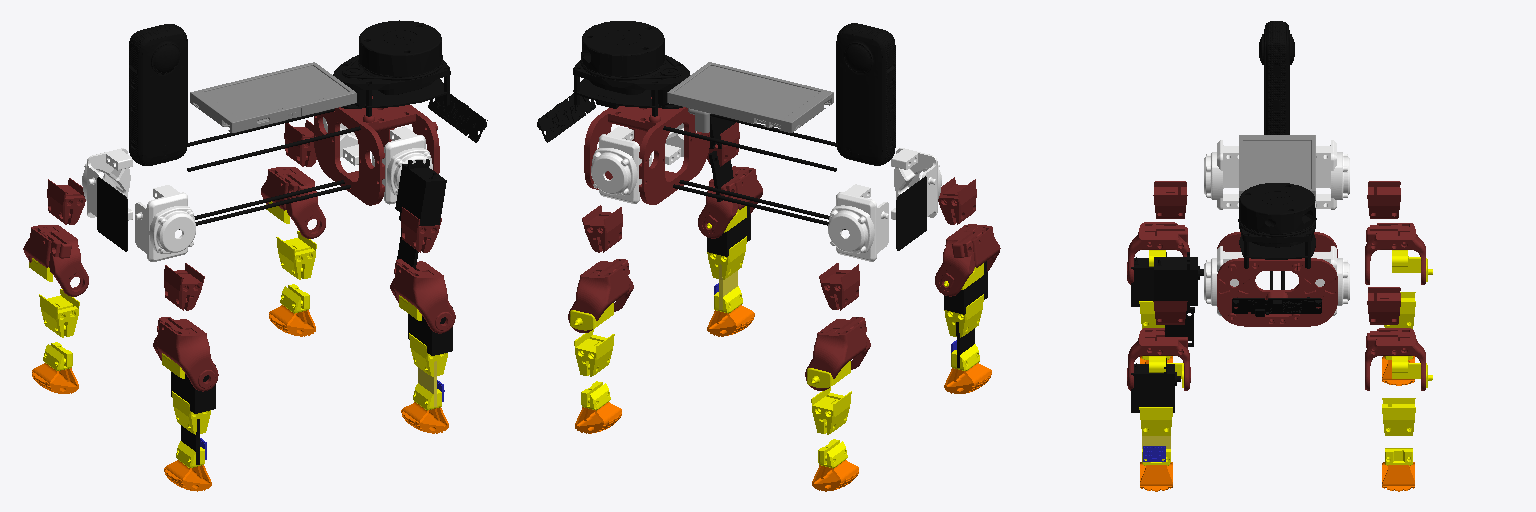
--- Facts derived from the render (not from the file) ---
Views: 3 orthographic renders of the robot side by side, from view 1: azimuth 30°, elevation 25°; view 2: azimuth 150°, elevation 25°; view 3: azimuth 270°, elevation 25°.
Model spot with 38 links and 37 joints (12 revolute, 25 fixed), rooted at base_link, posed every joint at zero.
Links seen in each view (by area): view 1: insta360, rpi_lidar, m5paper, front_bracket, back_right_upper_leg, back_left_upper_leg, front_right_upper_leg, back_right_hip, front_left_upper_leg, front_right_upper_servo, cfr_core, back_left_lower_leg (+14 smaller); view 2: insta360, rpi_lidar, m5paper, front_bracket, back_right_upper_leg, back_left_upper_leg, front_left_upper_leg, back_left_hip, front_left_hip, front_right_upper_leg, back_left_lower_leg, front_left_lower_leg (+14 smaller); view 3: front_bracket, rpi_lidar, m5paper, insta360, front_left_upper_leg, back_left_upper_leg, back_right_upper_leg, front_right_upper_leg, front_left_lower_leg, front_right_upper_servo, back_right_hip, back_left_hip (+11 smaller).
Link boxes in pixels (box(x1,y1,x2,y2)): insta360: box(129, 24, 187, 165); rpi_lidar: box(333, 20, 450, 116); m5paper: box(190, 62, 356, 132); front_bracket: box(314, 96, 439, 205); back_right_upper_leg: box(153, 263, 218, 391); back_left_upper_leg: box(23, 178, 88, 296); front_right_upper_leg: box(390, 207, 455, 333); back_right_hip: box(135, 185, 195, 261); front_left_upper_leg: box(261, 120, 325, 238); front_right_upper_servo: box(395, 159, 446, 225); cfr_core: box(179, 109, 360, 229); back_left_lower_leg: box(29, 258, 79, 370); insta360: box(836, 23, 895, 165); rpi_lidar: box(573, 21, 689, 116); m5paper: box(667, 62, 833, 132); front_bracket: box(584, 97, 709, 204); back_right_upper_leg: box(935, 177, 1000, 296); back_left_upper_leg: box(805, 263, 870, 390); front_left_upper_leg: box(568, 205, 633, 332); back_left_hip: box(828, 184, 888, 261); front_left_hip: box(591, 126, 651, 203); front_right_upper_leg: box(698, 122, 762, 238); back_left_lower_leg: box(807, 361, 851, 468); front_left_lower_leg: box(570, 303, 614, 410); front_bracket: box(1217, 232, 1337, 326); rpi_lidar: box(1238, 183, 1316, 268); m5paper: box(1239, 135, 1315, 200); insta360: box(1259, 21, 1294, 134); front_left_upper_leg: box(1365, 287, 1425, 390); back_left_upper_leg: box(1365, 181, 1425, 284); back_right_upper_leg: box(1127, 181, 1189, 284); front_right_upper_leg: box(1127, 301, 1190, 390); front_left_lower_leg: box(1382, 356, 1432, 465); front_right_upper_servo: box(1154, 252, 1203, 311); back_right_hip: box(1204, 140, 1238, 209); back_left_hip: box(1315, 140, 1349, 209).
Size in the robot's own frame: 0.352 by 0.2785 by 0.3703 metres.
31 mesh visuals loaded from 27 distinct referenced files (20 binary STL); not drawn: 7 (reference not matched to a file when rendering).

URDF robot description (spot):
<?xml version="1.0" encoding="utf-8"?>
<!-- =================================================================================== -->
<!-- |    This document was autogenerated by xacro from spot.urdf.xacro                | -->
<!-- |    EDITING THIS FILE BY HAND IS NOT RECOMMENDED                                 | -->
<!-- =================================================================================== -->
<robot name="spot" xmlns:xacro="http://www.ros.org/wiki/xacro">
  <material name="maroon">
    <color rgba="0.5 0.2 0.2 1"/>
  </material>
  <material name="lblue">
    <color rgba="0.1 0.1 0.8 0.9"/>
  </material>
  <material name="orange">
    <color rgba="1.0 0.5 0.0 1"/>
  </material>
  <material name="black">
    <color rgba="0.1 0.1 0.1 1"/>
  </material>
  <material name="grey">
    <color rgba="0.6 0.6 0.6 1"/>
  </material>
  <material name="white">
    <color rgba="1.0 1.0 1.0 1"/>
  </material>
  <material name="yellow">
    <color rgba="1.0 1.0 0.0 1"/>
  </material>
  <material name="cgray">
    <color rgba="0.6 0.6 0.6 0.5"/>
  </material>
  <material name="blue">
    <color rgba="0.2 0.2 0.8 1"/>
  </material>
  <material name="green">
    <color rgba="0.2 0.8 0.2 1"/>
  </material>
  <!-- Left Leg: prefix is front or rear -->
  <!--   <xacro:macro name="LeftLeg" params="prefix reflect">
    <link name="${prefix}_Left_Leg">
        <visual>
            <geometry>
                <box size="${leglen} 0.1 0.2"/>
            </geometry>
            <origin xyz="0 0 -${leglen/2}" rpy="0 ${pi/2} 0"/>
            <material name="white"/>
        </visual>
        <collision>
            <geometry>
                <box size="${leglen} 0.1 0.2"/>
            </geometry>
            <origin xyz="0 0 -${leglen/2}" rpy="0 ${pi/2} 0"/>
        </collision>
        <xacro:default_inertial mass="10"/>
    </link>

    <joint name="base_to_${prefix}_leg" type="fixed">
        <parent link="base_link"/>
        <child link="${prefix}_leg"/>
        <origin xyz="0 ${reflect*(width+.02)} 0.25" />
    </joint>
</xacro:macro> -->
  <!-- Robot description -->
  <!-- STATIC Links -->
  <link name="base_link">
    <visual>
      <origin rpy="0 0 1.57079632679" xyz="-0.16 0.035 -0.045"/>
      <geometry>
        <mesh filename="package://mini_ros/stl/OpenQuadruped/MAINBODY.stl" scale="1 1 1"/>
      </geometry>
      <material name="maroon"/>
    </visual>
    <collision>
      <origin rpy="0 0 1.57079632679" xyz="0 0 0"/>
      <geometry>
        <box size="0.114 0.2 0.1"/>
      </geometry>
    </collision>
    <inertial>
      <mass value="0.6"/>
      <origin rpy="0 0 0" xyz="0 0 0"/>
      <!-- Inertial Axes -->
      <inertia ixx="0.0025" ixy="0" ixz="0" iyx="0" iyy="0.0011498" iyz="0" izx="0" izy="0" izz="0.0026498"/>
    </inertial>
  </link>
  <!-- m to mm -->
  <link name="battery">
    <visual>
      <origin rpy="0 0 1.57079632679" xyz="-0.15 0.035 -0.022"/>
      <geometry>
        <mesh filename="package://mini_ros/stl/OpenQuadruped/Battery.stl" scale="1 1 1"/>
      </geometry>
      <material name="lblue"/>
    </visual>
    <collision>
      <origin rpy="0 0 1.57079632679" xyz="0 0 0"/>
      <geometry>
        <box size="0.048 0.145 0.026"/>
      </geometry>
    </collision>
    <inertial>
      <mass value="0.4"/>
      <origin rpy="0 0 0" xyz="0 0 0"/>
      <!-- Inertial Axes -->
      <inertia ixx="0.000723366666667" ixy="0" ixz="0" iyx="0" iyy="9.93333333333e-05" iyz="0" izx="0" izy="0" izz="0.000777633333333"/>
    </inertial>
  </link>

  
  <!-- m to mm -->
  <link name="cfr_core">
    <visual>
      <origin rpy="0 0 1.57079632679" xyz="-0.15 0.035 -0.022"/>
      <geometry>
        <mesh filename="package://mini_ros/stl/OpenQuadruped/cfr_core.stl" scale="1 1 1"/>
      </geometry>
      <material name="black"/>
    </visual>
    <collision>
      <origin rpy="0 0 1.57079632679" xyz="0 0 0"/>
      <geometry>
        <box size="0.048 0.145 0.026"/>
      </geometry>
    </collision>
    <inertial>
      <mass value="0.1"/>
      <origin rpy="0 0 0" xyz="0 0 0"/>
      <!-- Inertial Axes -->
      <inertia ixx="0.000723366666667" ixy="0" ixz="0" iyx="0" iyy="9.93333333333e-05" iyz="0" izx="0" izy="0" izz="0.000777633333333"/>
    </inertial>
  </link>
<!-- m to mm -->
  <link name="m5paper">
    <visual>
      <origin rpy="0 0 1.57079632679" xyz="-0.15 0.035 -0.022"/>
      <geometry>
        <mesh filename="package://mini_ros/stl/OpenQuadruped/m5paper.stl" scale="1 1 1"/>
      </geometry>
      <material name="grey"/>
    </visual>
    <collision>
      <origin rpy="0 0 1.57079632679" xyz="0 0 0"/>
      <geometry>
        <box size="0.048 0.145 0.026"/>
      </geometry>
    </collision>
    <inertial>
      <mass value="0.1"/>
      <origin rpy="0 0 0" xyz="0 0 0"/>
      <!-- Inertial Axes -->
      <inertia ixx="0.000723366666667" ixy="0" ixz="0" iyx="0" iyy="9.93333333333e-05" iyz="0" izx="0" izy="0" izz="0.000777633333333"/>
    </inertial>
  </link>
  <!-- m to mm -->
  <link name="rpi_lidar">
    <visual>
      <origin rpy="0 0 1.57079632679" xyz="-0.15 0.035 -0.022"/>
      <geometry>
        <mesh filename="package://mini_ros/stl/OpenQuadruped/lidar.stl" scale="1 1 1"/>
      </geometry>
      <material name="black"/>
    </visual>
    <collision>
      <origin rpy="0 0 1.57079632679" xyz="0 0 0"/>
      <geometry>
        <box size="0.048 0.145 0.026"/>
      </geometry>
    </collision>
    <inertial>
      <mass value="0.1"/>
      <origin rpy="0 0 0" xyz="0 0 0"/>
      <!-- Inertial Axes -->
      <inertia ixx="0.000723366666667" ixy="0" ixz="0" iyx="0" iyy="9.93333333333e-05" iyz="0" izx="0" izy="0" izz="0.000777633333333"/>
    </inertial>
  </link>

    <!-- m to mm -->
  <link name="rpi_5">
    <visual>
      <origin rpy="0 0 1.57079632679" xyz="-0.15 0.035 -0.022"/>
      <geometry>
        <mesh filename="package://mini_ros/stl/OpenQuadruped/RPI5.stl" scale="1 1 1"/>
      </geometry>
      <material name="green"/>
    </visual>
    <collision>
      <origin rpy="0 0 1.57079632679" xyz="0 0 0"/>
      <geometry>
        <box size="0.048 0.145 0.026"/>
      </geometry>
    </collision>
    <inertial>
      <mass value="0.1"/>
      <origin rpy="0 0 0" xyz="0 0 0"/>
      <!-- Inertial Axes -->
      <inertia ixx="0.000723366666667" ixy="0" ixz="0" iyx="0" iyy="9.93333333333e-05" iyz="0" izx="0" izy="0" izz="0.000777633333333"/>
    </inertial>
  </link>

    <!-- m to mm -->
  <link name="oak_d_lite">
    <visual>
      <origin rpy="0 0 1.57079632679" xyz="-0.15 0.035 -0.022"/>
      <geometry>
        <mesh filename="package://mini_ros/stl/OpenQuadruped/OAKD_LITE.stl" scale="1 1 1"/>
      </geometry>
      <material name="black"/>
    </visual>
    <collision>
      <origin rpy="0 0 1.57079632679" xyz="0 0 0"/>
      <geometry>
        <box size="0.048 0.145 0.026"/>
      </geometry>
    </collision>
    <inertial>
      <mass value="0.1"/>
      <origin rpy="0 0 0" xyz="0 0 0"/>
      <!-- Inertial Axes -->
      <inertia ixx="0.000723366666667" ixy="0" ixz="0" iyx="0" iyy="9.93333333333e-05" iyz="0" izx="0" izy="0" izz="0.000777633333333"/>
    </inertial>
  </link>

      <!-- m to mm -->
  <link name="insta360">
    <visual>
      <origin rpy="0 0 1.57079632679" xyz="-0.15 0.035 -0.022"/>
      <geometry>
        <mesh filename="package://mini_ros/stl/OpenQuadruped/INSTA360.stl" scale="1 1 1"/>
      </geometry>
      <material name="black"/>
    </visual>
    <collision>
      <origin rpy="0 0 1.57079632679" xyz="0 0 0"/>
      <geometry>
        <box size="0.048 0.145 0.026"/>
      </geometry>
    </collision>
    <inertial>
      <mass value="0.1"/>
      <origin rpy="0 0 0" xyz="0 0 0"/>
      <!-- Inertial Axes -->
      <inertia ixx="0.000723366666667" ixy="0" ixz="0" iyx="0" iyy="9.93333333333e-05" iyz="0" izx="0" izy="0" izz="0.000777633333333"/>
    </inertial>
  </link>

  <!-- m to mm -->
  <link name="chassis_left">
    <visual>
      <origin rpy="0 1.57079632679 -1.57079632679" xyz="0.016 0.003 0"/>
      <geometry>
        <mesh filename="package://mini_ros/stl/OpenQuadruped/Chassis_Left_Side.stl" scale="1 1 1"/>
      </geometry>
      <material name="cgray"/>
    </visual>
    <collision>
      <origin rpy="0 1.57079632679 -1.57079632679" xyz="0 0 0"/>
      <geometry>
        <box size="0.06 0.15 0.006"/>
      </geometry>
    </collision>
    <inertial>
      <mass value="0.01"/>
      <origin rpy="0 0 0" xyz="0 0 0"/>
      <!-- Inertial Axes -->
      <inertia ixx="1.878e-05" ixy="0" ixz="0" iyx="0" iyy="3.03e-06" iyz="0" izx="0" izy="0" izz="2.175e-05"/>
    </inertial>
  </link>
  <!-- m to mm -->
  <link name="chassis_right">
    <visual>
      <origin rpy="0 1.57079632679 1.57079632679" xyz="-0.016 -0.003 0"/>
      <geometry>
        <mesh filename="package://mini_ros/stl/OpenQuadruped/Chassis_Right_Side.stl" scale="1 1 1"/>
      </geometry>
      <material name="cgray"/>
    </visual>
    <collision>
      <origin rpy="0 1.57079632679 1.57079632679" xyz="0 0 0"/>
      <geometry>
        <box size="0.06 0.15 0.006"/>
      </geometry>
    </collision>
    <inertial>
      <mass value="0.01"/>
      <origin rpy="0 0 0" xyz="0 0 0"/>
      <!-- Inertial Axes -->
      <inertia ixx="1.878e-05" ixy="0" ixz="0" iyx="0" iyy="3.03e-06" iyz="0" izx="0" izy="0" izz="2.175e-05"/>
    </inertial>
  </link>
  <!-- m to mm -->
  <link name="front">
    <visual>
      <origin rpy="0 0 1.57079632679" xyz="-0.16 0.035 -0.045"/>
      <geometry>
        <mesh filename="package://mini_ros/stl/OpenQuadruped/Front.stl" scale="1 1 1"/>
      </geometry>
      <material name="maroon"/>
    </visual>
    <collision>
      <origin rpy="0 0 1.57079632679" xyz="0.16 0 0.006"/>
      <geometry>
        <box size="0.114 0.045 0.085"/>
      </geometry>
    </collision>
    <inertial>
      <mass value="0.1"/>
      <origin rpy="0 0 0" xyz="0 0 0"/>
      <!-- Inertial Axes -->
      <inertia ixx="7.70833333333e-05" ixy="0" ixz="0" iyx="0" iyy="0.000168508333333" iyz="0" izx="0" izy="0" izz="0.000125175"/>
    </inertial>
  </link>
  <!-- m to mm -->
  <link name="back">
    <visual>
      <origin rpy="0 0 1.57079632679" xyz="-0.16 0.035 -0.045"/>
      <geometry>
        <mesh filename="package://mini_ros/stl/OpenQuadruped/m5fire_black.stl" scale="1 1 1"/>
      </geometry>
      <material name="black"/>
    </visual>
    <collision>
      <origin rpy="0 0 1.57079632679" xyz="-0.16 0 0.006"/>
      <geometry>
        <box size="0.114 0.075 0.085"/>
      </geometry>
    </collision>
    <inertial>
      <mass value="0.1"/>
      <origin rpy="0 0 0" xyz="0 0 0"/>
      <!-- Inertial Axes -->
      <inertia ixx="0.000107083333333" ixy="0" ixz="0" iyx="0" iyy="0.000168508333333" iyz="0" izx="0" izy="0" izz="0.000155175"/>
    </inertial>
  </link>
  <!-- m to mm -->
  <link name="front_bracket">
    <visual>
      <origin rpy="0 0 1.57079632679" xyz="-0.16 0.035 -0.045"/>
      <geometry>
        <mesh filename="package://mini_ros/stl/OpenQuadruped/Front_Bracket.stl" scale="1 1 1"/>
      </geometry>
      <material name="maroon"/>
    </visual>
    <collision>
      <origin rpy="0 0 1.57079632679" xyz="0.1 0 0"/>
      <geometry>
        <box size="0.025 0.075 0.085"/>
      </geometry>
    </collision>
    <inertial>
      <mass value="0.1"/>
      <origin rpy="0 0 0" xyz="0 0 0"/>
      <!-- Inertial Axes -->
      <inertia ixx="0.000107083333333" ixy="0" ixz="0" iyx="0" iyy="6.54166666667e-05" iyz="0" izx="0" izy="0" izz="5.20833333333e-05"/>
    </inertial>
  </link>
  <!-- m to mm -->
  <link name="back_bracket">
    <visual>
      <origin rpy="0 0 1.57079632679" xyz="-0.16 0.035 -0.045"/>
      <geometry>
        <mesh filename="package://mini_ros/stl/OpenQuadruped/Back_Bracket.stl" scale="1 1 1"/>
      </geometry>
      <material name="maroon"/>
    </visual>
    <collision>
      <origin rpy="0 0 1.57079632679" xyz="-0.1 0 0"/>
      <geometry>
        <box size="0.025 0.075 0.085"/>
      </geometry>
    </collision>
    <inertial>
      <mass value="0.1"/>
      <origin rpy="0 0 0" xyz="0 0 0"/>
      <!-- Inertial Axes -->
      <inertia ixx="0.000107083333333" ixy="0" ixz="0" iyx="0" iyy="6.54166666667e-05" iyz="0" izx="0" izy="0" izz="5.20833333333e-05"/>
    </inertial>
  </link>
  <!-- m to mm -->
  <link name="front_left_hip">
    <visual>
      <origin rpy="0 0 1.57079632679" xyz="-0.25 -0.0044 -0.067"/>
      <geometry>
        <mesh filename="package://mini_ros/stl/OpenQuadruped/LEFT_HIP.stl" scale="1 1 1"/>
      </geometry>
      <material name="white"/>
    </visual>
    <collision>
      <origin rpy="0 0 1.57079632679" xyz="0.015 0.01 -0.01"/>
      <geometry>
        <box size="0.05 0.065 0.065"/>
      </geometry>
    </collision>
    <inertial>
      <mass value="0.2"/>
      <origin rpy="0 0 0" xyz="0 0 0"/>
      <!-- Inertial Axes -->
      <inertia ixx="0.000140833333333" ixy="0" ixz="0" iyx="0" iyy="0.000112083333333" iyz="0" izx="0" izy="0" izz="0.000112083333333"/>
    </inertial>
  </link>
  <joint name="motor_front_left_hip" type="revolute">
    <axis xyz="1 0 0"/>
    <origin rpy="0 0 0" xyz="0.0915 0.0394 0.022"/>
    <parent link="front_bracket"/>
    <child link="front_left_hip"/>
    <limit effort="1000.0" lower="-1.04" upper="1.04" velocity="0.7"/>
    <joint_properties damping="0.0" friction="0.0"/>
  </joint>
  <link name="front_left_upper_leg">
    <visual>
      <origin rpy="0 0 1.57079632679" xyz="-0.252 -0.05 -0.055"/>
      <geometry>
        <mesh filename="package://mini_ros/stl/OpenQuadruped/LEFT_UPPER_LEG.stl" scale="1 1 1"/>
      </geometry>
      <material name="maroon"/>
    </visual>
    <collision>
      <origin rpy="0 0 1.57079632679" xyz="0 0.02 -0.05"/>
      <geometry>
        <box size="0.035 0.035 0.11"/>
      </geometry>
    </collision>
    <inertial>
      <mass value="0.13"/>
      <origin rpy="0 0 0" xyz="0 0 0"/>
      <!-- Inertial Axes -->
      <inertia ixx="0.000144354166667" ixy="0" ixz="0" iyx="0" iyy="0.000144354166667" iyz="0" izx="0" izy="0" izz="2.65416666667e-05"/>
    </inertial>
  </link>
  <joint name="motor_front_left_upper_leg" type="revolute">
    <axis xyz="0 1 0"/>
    <origin rpy="0 0 0" xyz="0.0015 0.045 -0.0087"/>
    <parent link="front_left_hip"/>
    <child link="front_left_upper_leg"/>
    <limit effort="1000.0" lower="-1.57079632679" upper="2.59" velocity="0.7"/>
    <joint_properties damping="0.0" friction="0.0"/>
  </joint>
  <link name="front_left_lower_leg">
    <visual>
      <origin rpy="0 0 1.57079632679" xyz="-0.247 -0.068 0.0535"/>
      <geometry>
        <mesh filename="package://mini_ros/stl/OpenQuadruped/LEFT_LOWER_LEG.stl" scale="1 1 1"/>
      </geometry>
      <material name="yellow"/>
    </visual>
    <collision>
      <origin rpy="0 0 1.57079632679" xyz="0 0 -0.04"/>
      <geometry>
        <box size="0.035 0.035 0.10"/>
      </geometry>
    </collision>
    <inertial>
      <mass value="0.05"/>
      <origin rpy="0 0 0" xyz="0 0 0"/>
      <!-- Inertial Axes -->
      <inertia ixx="6.51041666667e-05" ixy="0" ixz="0" iyx="0" iyy="6.51041666667e-05" iyz="0" izx="0" izy="0" izz="1.02083333333e-05"/>
    </inertial>
  </link>
  <joint name="motor_front_left_lower_leg" type="revolute">
    <axis xyz="0 1 0"/>
    <origin rpy="0 0 0" xyz="-0.005 0.018 -0.109"/>
    <parent link="front_left_upper_leg"/>
    <child link="front_left_lower_leg"/>
    <limit effort="1000.0" lower="-2.9" upper="1.57079632679" velocity="0.7"/>
    <joint_properties damping="0.0" friction="0.0"/>
  </joint>
  <link name="front_left_foot">
    <visual>
      <origin rpy="0 0 1.57079632679" xyz="-0.247 -0.068 0.18"/>
      <geometry>
        <mesh filename="package://mini_ros/stl/OpenQuadruped/LEFT_FOOT.stl" scale="1 1 1"/>
      </geometry>
      <material name="orange"/>
    </visual>
    <collision>
      <origin rpy="0 0 1.57079632679" xyz="-0.247 -0.068 0.18"/>
      <geometry>
        <mesh filename="package://mini_ros/stl/OpenQuadruped/LEFT_FOOT.stl" scale="1 1 1"/>
      </geometry>
      <contact_coefficients mu="10.1"/>
    </collision>
    <inertial>
      <mass value="0.005"/>
      <origin rpy="0 0 0" xyz="0 0 0"/>
      <!-- Inertial Axes -->
      <inertia ixx="3.52083333333e-06" ixy="0" ixz="0" iyx="0" iyy="2.80208333333e-06" iyz="0" izx="0" izy="0" izz="2.80208333333e-06"/>
    </inertial>
  </link>
  <joint name="front_left_leg_foot" type="fixed">
    <origin rpy="0 0 0" xyz="0 0 -0.1265"/>
    <parent link="front_left_lower_leg"/>
    <child link="front_left_foot"/>
  </joint>
  <link name="back_left_hip">
    <visual>
      <origin rpy="0 0 1.57079632679" xyz="-0.25 -0.0044 -0.067"/>
      <geometry>
        <mesh filename="package://mini_ros/stl/OpenQuadruped/LEFT_HIP.stl" scale="1 1 1"/>
      </geometry>
      <material name="white"/>
    </visual>
    <collision>
      <origin rpy="0 0 1.57079632679" xyz="0.015 0.01 -0.01"/>
      <geometry>
        <box size="0.05 0.065 0.065"/>
      </geometry>
    </collision>
    <inertial>
      <mass value="0.2"/>
      <origin rpy="0 0 0" xyz="0 0 0"/>
      <!-- Inertial Axes -->
      <inertia ixx="0.000140833333333" ixy="0" ixz="0" iyx="0" iyy="0.000112083333333" iyz="0" izx="0" izy="0" izz="0.000112083333333"/>
    </inertial>
  </link>
  <joint name="motor_back_left_hip" type="revolute">
    <axis xyz="1 0 0"/>
    <origin rpy="0 0 0" xyz="-0.1365 0.0394 0.022"/>
    <parent link="back_bracket"/>
    <child link="back_left_hip"/>
    <limit effort="1000.0" lower="-1.04" upper="1.04" velocity="0.7"/>
    <joint_properties damping="0.0" friction="0.0"/>
  </joint>
  <link name="back_left_upper_leg">
    <visual>
      <origin rpy="0 0 1.57079632679" xyz="-0.252 -0.05 -0.055"/>
      <geometry>
        <mesh filename="package://mini_ros/stl/OpenQuadruped/LEFT_UPPER_LEG.stl" scale="1 1 1"/>
      </geometry>
      <material name="maroon"/>
    </visual>
    <collision>
      <origin rpy="0 0 1.57079632679" xyz="0 0.02 -0.05"/>
      <geometry>
        <box size="0.035 0.035 0.11"/>
      </geometry>
    </collision>
    <inertial>
      <mass value="0.13"/>
      <origin rpy="0 0 0" xyz="0 0 0"/>
      <!-- Inertial Axes -->
      <inertia ixx="0.000144354166667" ixy="0" ixz="0" iyx="0" iyy="0.000144354166667" iyz="0" izx="0" izy="0" izz="2.65416666667e-05"/>
    </inertial>
  </link>
  <joint name="motor_back_left_upper_leg" type="revolute">
    <axis xyz="0 1 0"/>
    <origin rpy="0 0 0" xyz="0.0015 0.045 -0.0087"/>
    <parent link="back_left_hip"/>
    <child link="back_left_upper_leg"/>
    <limit effort="1000.0" lower="-1.57079632679" upper="2.59" velocity="0.7"/>
    <joint_properties damping="0.0" friction="0.0"/>
  </joint>
  <link name="back_left_lower_leg">
    <visual>
      <origin rpy="0 0 1.57079632679" xyz="-0.247 -0.068 0.0535"/>
      <geometry>
        <mesh filename="package://mini_ros/stl/OpenQuadruped/LEFT_LOWER_LEG.stl" scale="1 1 1"/>
      </geometry>
      <material name="yellow"/>
    </visual>
    <collision>
      <origin rpy="0 0 1.57079632679" xyz="0 0 -0.04"/>
      <geometry>
        <box size="0.035 0.035 0.10"/>
      </geometry>
    </collision>
    <inertial>
      <mass value="0.05"/>
      <origin rpy="0 0 0" xyz="0 0 0"/>
      <!-- Inertial Axes -->
      <inertia ixx="6.51041666667e-05" ixy="0" ixz="0" iyx="0" iyy="6.51041666667e-05" iyz="0" izx="0" izy="0" izz="1.02083333333e-05"/>
    </inertial>
  </link>
  <joint name="motor_back_left_lower_leg" type="revolute">
    <axis xyz="0 1 0"/>
    <origin rpy="0 0 0" xyz="-0.005 0.018 -0.109"/>
    <parent link="back_left_upper_leg"/>
    <child link="back_left_lower_leg"/>
    <limit effort="1000.0" lower="-2.9" upper="1.57079632679" velocity="0.7"/>
    <joint_properties damping="0.0" friction="0.0"/>
  </joint>
  <link name="back_left_foot">
    <visual>
      <origin rpy="0 0 1.57079632679" xyz="-0.247 -0.068 0.18"/>
      <geometry>
        <mesh filename="package://mini_ros/stl/OpenQuadruped/LEFT_FOOT.stl" scale="1 1 1"/>
      </geometry>
      <material name="orange"/>
    </visual>
    <collision>
      <origin rpy="0 0 1.57079632679" xyz="-0.247 -0.068 0.18"/>
      <geometry>
        <mesh filename="package://mini_ros/stl/OpenQuadruped/LEFT_FOOT.stl" scale="1 1 1"/>
      </geometry>
      <contact_coefficients mu="10.1"/>
    </collision>
    <inertial>
      <mass value="0.005"/>
      <origin rpy="0 0 0" xyz="0 0 0"/>
      <!-- Inertial Axes -->
      <inertia ixx="3.52083333333e-06" ixy="0" ixz="0" iyx="0" iyy="2.80208333333e-06" iyz="0" izx="0" izy="0" izz="2.80208333333e-06"/>
    </inertial>
  </link>
  <joint name="back_left_leg_foot" type="fixed">
    <origin rpy="0 0 0" xyz="0 0 -0.1265"/>
    <parent link="back_left_lower_leg"/>
    <child link="back_left_foot"/>
  </joint>
  <link name="front_right_hip">
    <visual>
      <origin rpy="0 0 1.57079632679" xyz="-0.25 0.074 -0.067"/>
      <geometry>
        <mesh filename="package://mini_ros/stl/OpenQuadruped/RIGHT_HIP.stl" scale="1 1 1"/>
      </geometry>
      <material name="white"/>
    </visual>
    <collision>
      <origin rpy="0 0 1.57079632679" xyz="0.015 -0.01 -0.01"/>
      <geometry>
        <box size="0.05 0.065 0.065"/>
      </geometry>
    </collision>
    <inertial>
      <mass value="0.2"/>
      <origin rpy="0 0 0" xyz="0 0 0"/>
      <!-- Inertial Axes -->
      <inertia ixx="0.000140833333333" ixy="0" ixz="0" iyx="0" iyy="0.000112083333333" iyz="0" izx="0" izy="0" izz="0.000112083333333"/>
    </inertial>
  </link>
  <joint name="motor_front_right_hip" type="revolute">
    <axis xyz="1 0 0"/>
    <origin rpy="0 0 0" xyz="0.0915 -0.0394 0.022"/>
    <parent link="front_bracket"/>
    <child link="front_right_hip"/>
    <limit effort="1000.0" lower="-1.04" upper="1.04" velocity="0.7"/>
    <joint_properties damping="0.0" friction="0.0"/>
  </joint>
  <link name="front_right_upper_leg">
    <visual>
      <origin rpy="0 0 1.57079632679" xyz="-0.252 0.12 -0.055"/>
      <geometry>
        <mesh filename="package://mini_ros/stl/OpenQuadruped/RIGHT_UPPER_LEG.stl" scale="1 1 1"/>
      </geometry>
      <material name="maroon"/>
    </visual>
    <collision>
      <origin rpy="0 0 1.57079632679" xyz="0 -0.02 -0.05"/>
      <geometry>
        <box size="0.035 0.035 0.11"/>
      </geometry>
    </collision>
    <inertial>
      <mass value="0.13"/>
      <origin rpy="0 0 0" xyz="0 0 0"/>
      <!-- Inertial Axes -->
      <inertia ixx="0.000144354166667" ixy="0" ixz="0" iyx="0" iyy="0.000144354166667" iyz="0" izx="0" izy="0" izz="2.65416666667e-05"/>
    </inertial>
  </link>
  <joint name="motor_front_right_upper_leg" type="revolute">
    <axis xyz="0 1 0"/>
    <origin rpy="0 0 0" xyz="0.0015 -0.045 -0.0087"/>
    <parent link="front_right_hip"/>
    <child link="front_right_upper_leg"/>
    <limit effort="1000.0" lower="-1.57079632679" upper="2.59" velocity="0.7"/>
    <joint_properties damping="0.0" friction="0.0"/>
  </joint>
  <link name="front_right_lower_leg">
    <visual>
      <origin rpy="0 0 1.57079632679" xyz="-0.247 0.138 0.0535"/>
      <geometry>
        <mesh filename="package://mini_ros/stl/OpenQuadruped/RIGHT_LOWER_LEG.stl" scale="1 1 1"/>
      </geometry>
      <material name="yellow"/>
    </visual>
    <collision>
      <origin rpy="0 0 1.57079632679" xyz="0 0 -0.04"/>
      <geometry>
        <box size="0.035 0.035 0.10"/>
      </geometry>
    </collision>
    <inertial>
      <mass value="0.05"/>
      <origin rpy="0 0 0" xyz="0 0 0"/>
      <!-- Inertial Axes -->
      <inertia ixx="6.51041666667e-05" ixy="0" ixz="0" iyx="0" iyy="6.51041666667e-05" iyz="0" izx="0" izy="0" izz="1.02083333333e-05"/>
    </inertial>
  </link>
  <joint name="motor_front_right_lower_leg" type="revolute">
    <axis xyz="0 1 0"/>
    <origin rpy="0 0 0" xyz="-0.005 -0.018 -0.109"/>
    <parent link="front_right_upper_leg"/>
    <child link="front_right_lower_leg"/>
    <limit effort="1000.0" lower="-2.9" upper="1.57079632679" velocity="0.7"/>
    <joint_properties damping="0.0" friction="0.0"/>
  </joint>
  <link name="front_right_foot">
    <visual>
      <origin rpy="0 0 1.57079632679" xyz="-0.247 0.138 0.18"/>
      <geometry>
        <mesh filename="package://mini_ros/stl/OpenQuadruped/RIGHT_FOOT.stl" scale="1 1 1"/>
      </geometry>
      <material name="orange"/>
    </visual>
    <collision>
      <origin rpy="0 0 1.57079632679" xyz="-0.247 0.138 0.18"/>
      <geometry>
        <mesh filename="package://mini_ros/stl/OpenQuadruped/RIGHT_FOOT.stl" scale="1 1 1"/>
      </geometry>
      <contact_coefficients mu="10.1"/>
    </collision>
    <inertial>
      <mass value="0.005"/>
      <origin rpy="0 0 0" xyz="0 0 0"/>
      <!-- Inertial Axes -->
      <inertia ixx="3.52083333333e-06" ixy="0" ixz="0" iyx="0" iyy="2.80208333333e-06" iyz="0" izx="0" izy="0" izz="2.80208333333e-06"/>
    </inertial>
  </link>
  <link name="front_right_foot_IMU">
    <visual>
      <origin rpy="0 0 1.57079632679" xyz="-0.247 0.138 0.18"/>
      <geometry>
        <mesh filename="package://mini_ros/stl/OpenQuadruped/RIGHT_FOOT_IMU.stl" scale="1 1 1"/>
      </geometry>
      <material name="blue"/>
    </visual>
    <inertial>
      <mass value="0.005"/>
      <origin rpy="0 0 0" xyz="0 0 0"/>
      <!-- Inertial Axes -->
      <inertia ixx="3.52083333333e-06" ixy="0" ixz="0" iyx="0" iyy="2.80208333333e-06" iyz="0" izx="0" izy="0" izz="2.80208333333e-06"/>
    </inertial>
  </link>
  <link name="front_right_foot_CFP">
    <visual>
      <origin rpy="0 0 1.57079632679" xyz="-0.247 0.138 0.18"/>
      <geometry>
        <mesh filename="package://mini_ros/stl/OpenQuadruped/RIGHT_FOOT_CFP.stl" scale="1 1 1"/>
      </geometry>
      <material name="CFP"/>
    </visual>
    <inertial>
      <mass value="0.005"/>
      <origin rpy="0 0 0" xyz="0 0 0"/>
      <!-- Inertial Axes -->
      <inertia ixx="3.52083333333e-06" ixy="0" ixz="0" iyx="0" iyy="2.80208333333e-06" iyz="0" izx="0" izy="0" izz="2.80208333333e-06"/>
    </inertial>
  </link>
  
  <link name="front_right_foot_servo">
    <visual>
      <origin rpy="0 0 1.57079632679" xyz="-0.247 0.138 0.18"/>
      <geometry>
        <mesh filename="package://mini_ros/stl/OpenQuadruped/RIGHT_LOWER_SERVO.stl" scale="1 1 1"/>
      </geometry>
      <material name="black"/>
    </visual>
    <inertial>
      <mass value="0.005"/>
      <origin rpy="0 0 0" xyz="0 0 0"/>
      <!-- Inertial Axes -->
      <inertia ixx="3.52083333333e-06" ixy="0" ixz="0" iyx="0" iyy="2.80208333333e-06" iyz="0" izx="0" izy="0" izz="2.80208333333e-06"/>
    </inertial>
  </link>
  
  <link name="front_right_upper_servo">
    <visual>
      <origin rpy="0 0 1.57079632679" xyz="-0.247 0.138 0.18"/>
      <geometry>
        <mesh filename="package://mini_ros/stl/OpenQuadruped/RIGHT_UPPER_SERVO.stl" scale="1 1 1"/>
      </geometry>
      <material name="black"/>
    </visual>
    <inertial>
      <mass value="0.005"/>
      <origin rpy="0 0 0" xyz="0 0 0"/>
      
      <inertia ixx="3.52083333333e-06" ixy="0" ixz="0" iyx="0" iyy="2.80208333333e-06" iyz="0" izx="0" izy="0" izz="2.80208333333e-06"/>
    </inertial>
  </link>

  <link name="front_right_upper_CFP">
    <visual>
      <origin rpy="0 0 1.57079632679" xyz="-0.247 0.138 0.18"/>
      <geometry>
        <mesh filename="package://mini_ros/stl/OpenQuadruped/RIGHT_UPPER_CFP.stl" scale="1 1 1"/>
      </geometry>
      <material name="black"/>
    </visual>
    <inertial>
      <mass value="0.005"/>
      <origin rpy="0 0 0" xyz="0 0 0"/>
      
      <inertia ixx="3.52083333333e-06" ixy="0" ixz="0" iyx="0" iyy="2.80208333333e-06" iyz="0" izx="0" izy="0" izz="2.80208333333e-06"/>
    </inertial>
  </link>
  
  <joint name="front_right_leg_foot" type="fixed">
    <origin rpy="0 0 0" xyz="0 0 -0.1265"/>
    <parent link="front_right_lower_leg"/>
    <child link="front_right_foot"/>
  </joint>

  <joint name="front_right_leg_foot_IMU" type="fixed">
    <origin rpy="0 0 0" xyz="0 0 -0.1265"/>
    <parent link="front_right_lower_leg"/>
    <child link="front_right_foot_IMU"/>
  </joint>

  <joint name="front_right_leg_foot_CFP" type="fixed">
    <origin rpy="0 0 0" xyz="0 0 -0.1265"/>
    <parent link="front_right_lower_leg"/>
    <child link="front_right_foot_CFP"/>
  </joint>

  <joint name="front_right_leg_foot_servo" type="fixed">
    <origin rpy="0 0 0" xyz="0 0 -0.1265"/>
    <parent link="front_right_lower_leg"/>
    <child link="front_right_foot_servo"/>
  </joint>
  
  <joint name="front_right_leg_upper_servo" type="fixed">
    <origin rpy="0 0 0" xyz="-0.005 -0.01 -0.235"/>
    <parent link="front_right_upper_leg"/>
    <child link="front_right_upper_servo"/>
  </joint>

  <joint name="front_right_upper_CFP" type="fixed">
    <origin rpy="0 0 0" xyz="-0.005 -0.01 -0.235"/>
    <parent link="front_right_upper_leg"/>
    <child link="front_right_upper_CFP"/>
  </joint>

  <link name="back_right_hip">
    <visual>
      <origin rpy="0 0 1.57079632679" xyz="-0.25 0.074 -0.067"/>
      <geometry>
        <mesh filename="package://mini_ros/stl/OpenQuadruped/RIGHT_HIP.stl" scale="1 1 1"/>
      </geometry>
      <material name="white"/>
    </visual>
    <collision>
      <origin rpy="0 0 1.57079632679" xyz="0.015 -0.01 -0.01"/>
      <geometry>
        <box size="0.05 0.065 0.065"/>
      </geometry>
    </collision>
    <inertial>
      <mass value="0.2"/>
      <origin rpy="0 0 0" xyz="0 0 0"/>
      <!-- Inertial Axes -->
      <inertia ixx="0.000140833333333" ixy="0" ixz="0" iyx="0" iyy="0.000112083333333" iyz="0" izx="0" izy="0" izz="0.000112083333333"/>
    </inertial>
  </link>
  <joint name="motor_back_right_hip" type="revolute">
    <axis xyz="1 0 0"/>
    <origin rpy="0 0 0" xyz="-0.1365 -0.0394 0.022"/>
    <parent link="back_bracket"/>
    <child link="back_right_hip"/>
    <limit effort="1000.0" lower="-1.04" upper="1.04" velocity="0.7"/>
    <joint_properties damping="0.0" friction="0.0"/>
  </joint>
  <link name="back_right_upper_leg">
    <visual>
      <origin rpy="0 0 1.57079632679" xyz="-0.252 0.12 -0.055"/>
      <geometry>
        <mesh filename="package://mini_ros/stl/OpenQuadruped/RIGHT_UPPER_LEG.stl" scale="1 1 1"/>
      </geometry>
      <material name="maroon"/>
    </visual>
    <collision>
      <origin rpy="0 0 1.57079632679" xyz="0 -0.02 -0.05"/>
      <geometry>
        <box size="0.035 0.035 0.11"/>
      </geometry>
    </collision>
    <inertial>
      <mass value="0.13"/>
      <origin rpy="0 0 0" xyz="0 0 0"/>
      <!-- Inertial Axes -->
      <inertia ixx="0.000144354166667" ixy="0" ixz="0" iyx="0" iyy="0.000144354166667" iyz="0" izx="0" izy="0" izz="2.65416666667e-05"/>
    </inertial>
  </link>
  <joint name="motor_back_right_upper_leg" type="revolute">
    <axis xyz="0 1 0"/>
    <origin rpy="0 0 0" xyz="0.0015 -0.045 -0.0087"/>
    <parent link="back_right_hip"/>
    <child link="back_right_upper_leg"/>
    <limit effort="1000.0" lower="-1.57079632679" upper="2.59" velocity="0.7"/>
    <joint_properties damping="0.0" friction="0.0"/>
  </joint>
  <link name="back_right_lower_leg">
    <visual>
      <origin rpy="0 0 1.57079632679" xyz="-0.247 0.138 0.0535"/>
      <geometry>
        <mesh filename="package://mini_ros/stl/OpenQuadruped/RIGHT_LOWER_LEG.stl" scale="1 1 1"/>
      </geometry>
      <material name="yellow"/>
    </visual>
    <collision>
      <origin rpy="0 0 1.57079632679" xyz="0 0 -0.04"/>
      <geometry>
        <box size="0.035 0.035 0.10"/>
      </geometry>
    </collision>
    <inertial>
      <mass value="0.05"/>
      <origin rpy="0 0 0" xyz="0 0 0"/>
      <!-- Inertial Axes -->
      <inertia ixx="6.51041666667e-05" ixy="0" ixz="0" iyx="0" iyy="6.51041666667e-05" iyz="0" izx="0" izy="0" izz="1.02083333333e-05"/>
    </inertial>
  </link>
  <joint name="motor_back_right_lower_leg" type="revolute">
    <axis xyz="0 1 0"/>
    <origin rpy="0 0 0" xyz="-0.005 -0.018 -0.109"/>
    <parent link="back_right_upper_leg"/>
    <child link="back_right_lower_leg"/>
    <limit effort="1000.0" lower="-2.9" upper="1.57079632679" velocity="0.7"/>
    <joint_properties damping="0.0" friction="0.0"/>
  </joint>
  <link name="back_right_foot">
    <visual>
      <origin rpy="0 0 1.57079632679" xyz="-0.247 0.138 0.18"/>
      <geometry>
        <mesh filename="package://mini_ros/stl/OpenQuadruped/RIGHT_FOOT.stl" scale="1 1 1"/>
      </geometry>
      <material name="orange"/>
    </visual>
    <collision>
      <origin rpy="0 0 1.57079632679" xyz="-0.247 0.138 0.18"/>
      <geometry>
        <mesh filename="package://mini_ros/stl/OpenQuadruped/RIGHT_FOOT.stl" scale="1 1 1"/>
      </geometry>
      <contact_coefficients mu="10.1"/>
    </collision>
    <inertial>
      <mass value="0.005"/>
      <origin rpy="0 0 0" xyz="0 0 0"/>
      <!-- Inertial Axes -->
      <inertia ixx="3.52083333333e-06" ixy="0" ixz="0" iyx="0" iyy="2.80208333333e-06" iyz="0" izx="0" izy="0" izz="2.80208333333e-06"/>
    </inertial>
  </link>
  <link name="back_right_foot_IMU">
    <visual>
      <origin rpy="0 0 1.57079632679" xyz="-0.247 0.138 0.18"/>
      <geometry>
        <mesh filename="package://mini_ros/stl/OpenQuadruped/RIGHT_FOOT_IMU.stl" scale="1 1 1"/>
      </geometry>
      <material name="blue"/>
    </visual>
    <inertial>
      <mass value="0.005"/>
      <origin rpy="0 0 0" xyz="0 0 0"/>
      <!-- Inertial Axes -->
      <inertia ixx="3.52083333333e-06" ixy="0" ixz="0" iyx="0" iyy="2.80208333333e-06" iyz="0" izx="0" izy="0" izz="2.80208333333e-06"/>
    </inertial>
  </link>
  <link name="back_right_foot_CFP">
    <visual>
      <origin rpy="0 0 1.57079632679" xyz="-0.247 0.138 0.18"/>
      <geometry>
        <mesh filename="package://mini_ros/stl/OpenQuadruped/RIGHT_FOOT_CFP.stl" scale="1 1 1"/>
      </geometry>
      <material name="black"/>
    </visual>
    <inertial>
      <mass value="0.005"/>
      <origin rpy="0 0 0" xyz="0 0 0"/>
      <!-- Inertial Axes -->
      <inertia ixx="3.52083333333e-06" ixy="0" ixz="0" iyx="0" iyy="2.80208333333e-06" iyz="0" izx="0" izy="0" izz="2.80208333333e-06"/>
    </inertial>
  </link>
  <link name="back_right_foot_servo">
    <visual>
      <origin rpy="0 0 1.57079632679" xyz="-0.247 0.138 0.18"/>
      <geometry>
        <mesh filename="package://mini_ros/stl/OpenQuadruped/RIGHT_LOWER_SERVO.stl" scale="1 1 1"/>
      </geometry>
      <material name="black"/>
    </visual>
    <inertial>
      <mass value="0.005"/>
      <origin rpy="0 0 0" xyz="0 0 0"/>
      <!-- Inertial Axes -->
      <inertia ixx="3.52083333333e-06" ixy="0" ixz="0" iyx="0" iyy="2.80208333333e-06" iyz="0" izx="0" izy="0" izz="2.80208333333e-06"/>
    </inertial>
  </link>
    <joint name="back_right_leg_foot" type="fixed">
    <origin rpy="0 0 0" xyz="0 0 -0.1265"/>
    <parent link="back_right_lower_leg"/>
    <child link="back_right_foot"/>
  </joint>
  <joint name="back_right_leg_foot_IMU" type="fixed">
    <origin rpy="0 0 0" xyz="0 0 -0.1265"/>
    <parent link="back_right_lower_leg"/>
    <child link="back_right_foot_IMU"/>
  </joint>
  <joint name="back_right_leg_foot_CFP" type="fixed">
    <origin rpy="0 0 0" xyz="0 0 -0.1265"/>
    <parent link="back_right_lower_leg"/>
    <child link="back_right_foot_CFP"/>
  </joint>
  <joint name="back_right_leg_foot_servo" type="fixed">
    <origin rpy="0 0 0" xyz="0 0 -0.1265"/>
    <parent link="back_right_lower_leg"/>
    <child link="back_right_foot_servo"/>
  </joint>
  <joint name="base_battery" type="fixed">
    <origin rpy="0 0 0" xyz="-0.01 0 -0.0225"/>
    <parent link="base_link"/>
    <child link="battery"/>
  </joint>

  <joint name="base_cfr_core" type="fixed">
    <origin rpy="0 0 0" xyz="-0.01 0 -0.0225"/>
    <parent link="base_link"/>
    <child link="cfr_core"/>
  </joint>
  <joint name="base_m5paper" type="fixed">
    <origin rpy="0 0 0" xyz="-0.01 0 -0.0225"/>
    <parent link="base_link"/>
    <child link="m5paper"/>
  </joint>
  <joint name="base_rpi_lidar" type="fixed">
    <origin rpy="0 0 0" xyz="-0.01 0 -0.0225"/>
    <parent link="base_link"/>
    <child link="rpi_lidar"/>
  </joint>
  <joint name="base_rpi_5" type="fixed">
    <origin rpy="0 0 0" xyz="-0.01 0 -0.0225"/>
    <parent link="base_link"/>
    <child link="rpi_5"/>
  </joint>
  <joint name="base_oakd_lite" type="fixed">
    <origin rpy="0 0 0" xyz="-0.01 0 -0.0225"/>
    <parent link="base_link"/>
    <child link="oak_d_lite"/>
  </joint>
    <joint name="base_insta360" type="fixed">
    <origin rpy="0 0 0" xyz="-0.01 0 -0.0225"/>
    <parent link="base_link"/>
    <child link="insta360"/>
  </joint>

  <joint name="base_left" type="fixed">
    <origin rpy="0 0 0" xyz="0.00 0.052 0"/>
    <parent link="base_link"/>
    <child link="chassis_left"/>
  </joint>
  <joint name="base_right" type="fixed">
    <origin rpy="0 0 0" xyz="0.00 -0.052 0"/>
    <parent link="base_link"/>
    <child link="chassis_right"/>
  </joint>
  <joint name="base_front" type="fixed">
    <origin rpy="0 0 0" xyz="0 0 0"/>
    <parent link="base_link"/>
    <child link="front"/>
  </joint>
  <joint name="base_back" type="fixed">
    <origin rpy="0 0 0" xyz="0 0 0"/>
    <parent link="base_link"/>
    <child link="back"/>
  </joint>
  <joint name="base_front_bracket" type="fixed">
    <origin rpy="0 0 0" xyz="0 0 0"/>
    <parent link="base_link"/>
    <child link="front_bracket"/>
  </joint>
  <joint name="base_back_bracket" type="fixed">
    <origin rpy="0 0 0" xyz="0 0 0"/>
    <parent link="base_link"/>
    <child link="back_bracket"/>
  </joint>
</robot>
